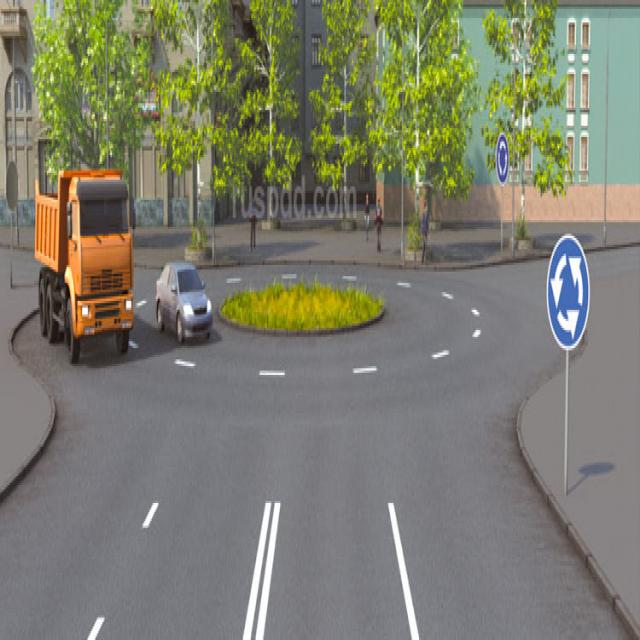roundabout: (548, 236, 590, 351), (496, 131, 509, 189)
